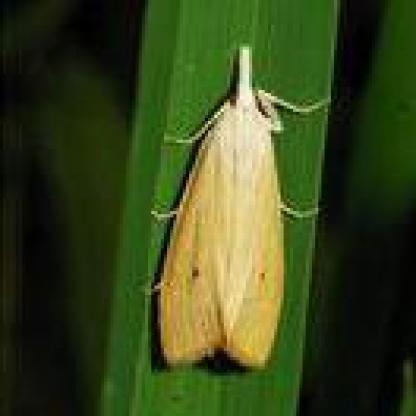stem-borer: (151, 43, 295, 372)
